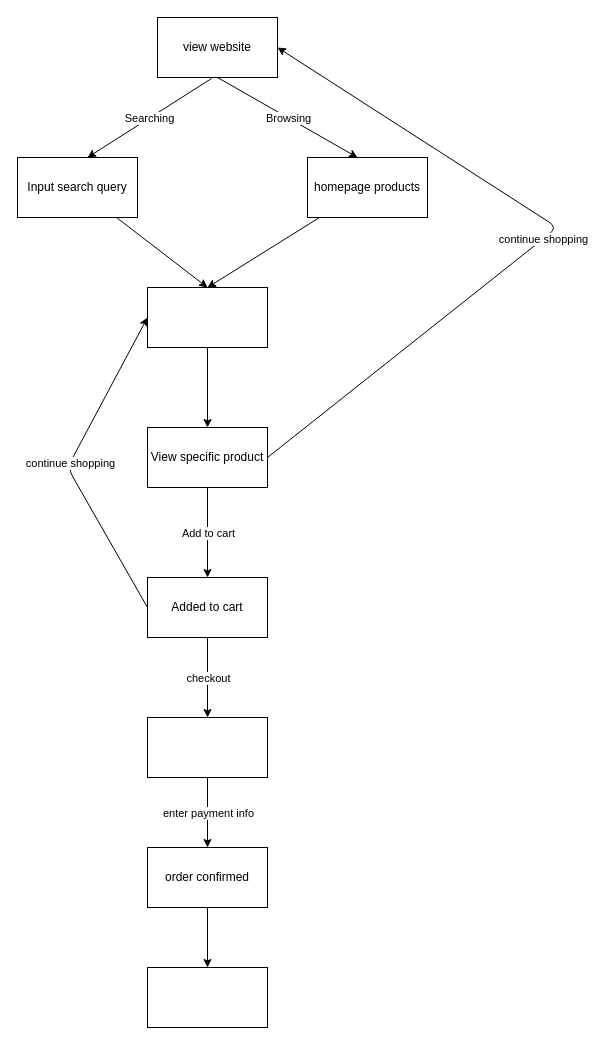
The diagram is 606 pixels wide and 1045 high, and some of its shapes have lost their labels. Each missing label, with the centre of its shape:
"receive email" goes at pixel 207 997.
"View Cart" goes at pixel 207 747.
"View products" goes at pixel 207 317.
